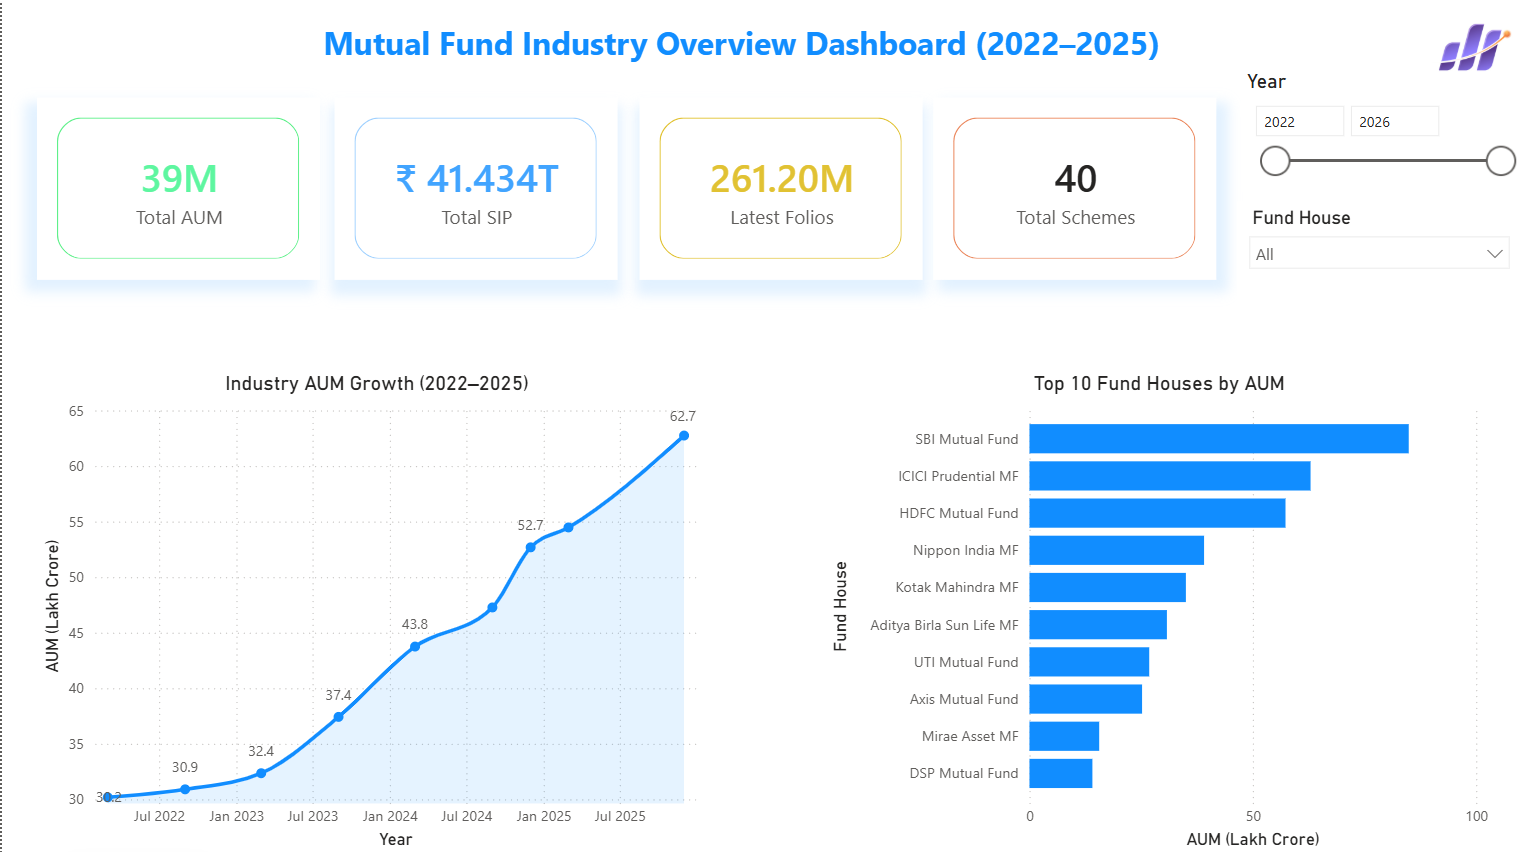

The dashboard page shown, as its layout file describes it:
{"tool":"powerbi","page":{"name":"Dashboard Page 1","canvas":[1280,720],"ordinal":0},"visuals":[{"type":"cardVisual","fields":{"Data":["All Measures.Total SIP"]},"box":[280.2,82.6,238.4,153.5],"z":0},{"type":"cardVisual","fields":{"Data":["Date.Total AUM"]},"box":[29.1,82.6,238,153.5],"z":1000},{"type":"cardVisual","fields":{"Data":["All Measures.Latest Folios"]},"box":[537.2,82.6,238.4,153.5],"z":2000},{"type":"cardVisual","fields":{"Data":["All Measures.Total Schemes"]},"box":[783.7,82.6,238.4,153.5],"z":3000},{"type":"lineChart","title":"Industry AUM Growth (2022–2025)","fields":{"Y":["Sum(aum_by_fund_house.aum_lakh_crore)"],"Category":["aum_by_fund_house.date.Variation.Date Hierarchy.Year","aum_by_fund_house.date.Variation.Date Hierarchy.Month"]},"box":[29.1,312.8,572.1,407],"z":4000},{"type":"clusteredBarChart","title":"Top 10 Fund Houses by AUM","fields":{"Category":["aum_by_fund_house.fund_house"],"Y":["Sum(aum_by_fund_house.aum_lakh_crore)"]},"box":[693,312.8,564,407],"z":5000},{"type":"slicer","title":"Year","fields":{"Values":["Date.Year"]},"box":[1043,57.8,239.7,103],"z":6000},{"type":"slicer","fields":{"Values":["aum_by_fund_house.fund_house"]},"box":[1039.8,169.3,239.7,87.3],"z":7000},{"type":"textbox","box":[132.6,0,1027.4,57.9],"z":8000},{"type":"image","box":[1200.2,0,79.8,79.8],"z":9000}]}

Visuals, with their boxes in screenshot pixels (x1, y1, x2, y2), scaled from the page's 1280x720 canvas onto the 1520x852 screenshot:
cardVisual - All Measures.Total SIP: <bbox>333, 98, 616, 279</bbox>
cardVisual - Date.Total AUM: <bbox>35, 98, 317, 279</bbox>
cardVisual - All Measures.Latest Folios: <bbox>638, 98, 921, 279</bbox>
cardVisual - All Measures.Total Schemes: <bbox>931, 98, 1214, 279</bbox>
"Industry AUM Growth (2022–2025)" lineChart: <bbox>35, 370, 714, 851</bbox>
"Top 10 Fund Houses by AUM" clusteredBarChart: <bbox>823, 370, 1493, 851</bbox>
"Year" slicer: <bbox>1239, 68, 1519, 190</bbox>
slicer - aum_by_fund_house.fund_house: <bbox>1235, 200, 1519, 304</bbox>
textbox: <bbox>157, 0, 1378, 69</bbox>
image: <bbox>1425, 0, 1519, 94</bbox>
